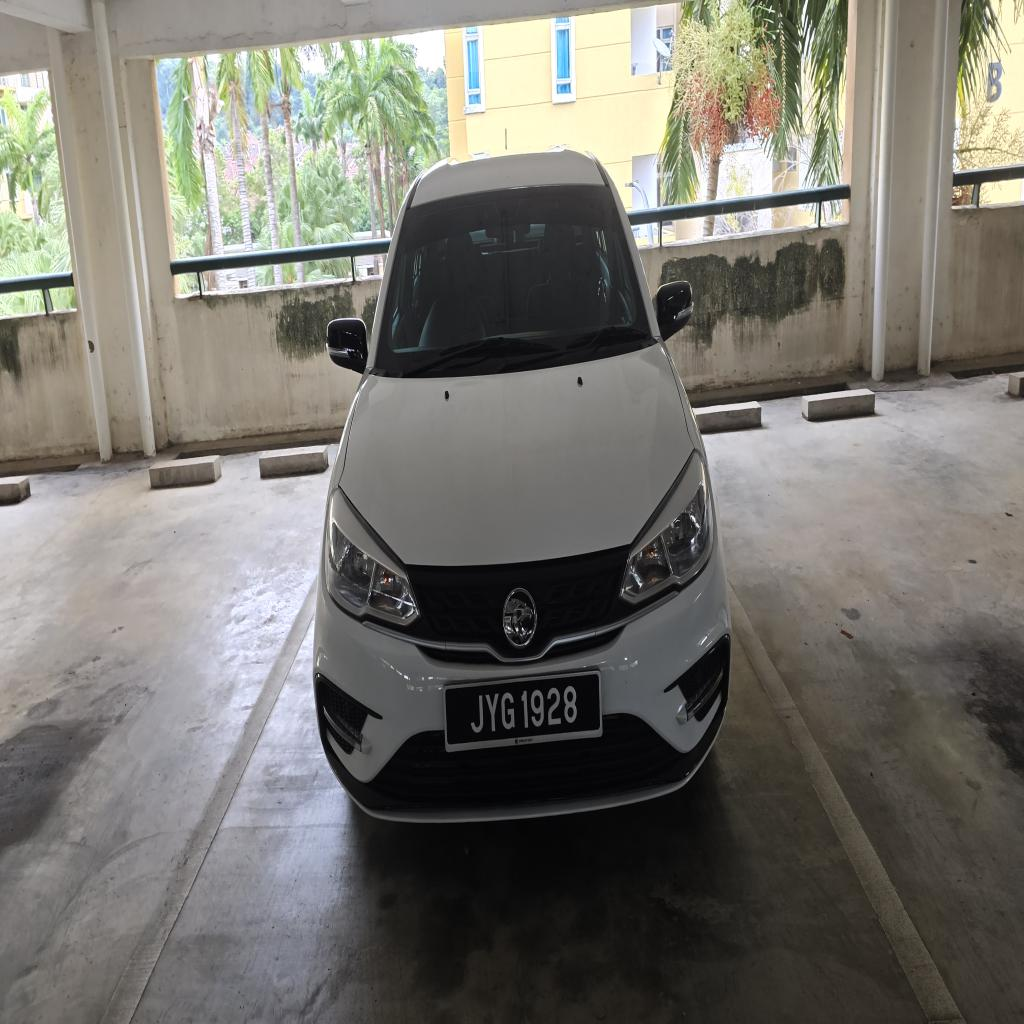car: (315, 151, 730, 820)
car plate: (444, 672, 600, 750)
